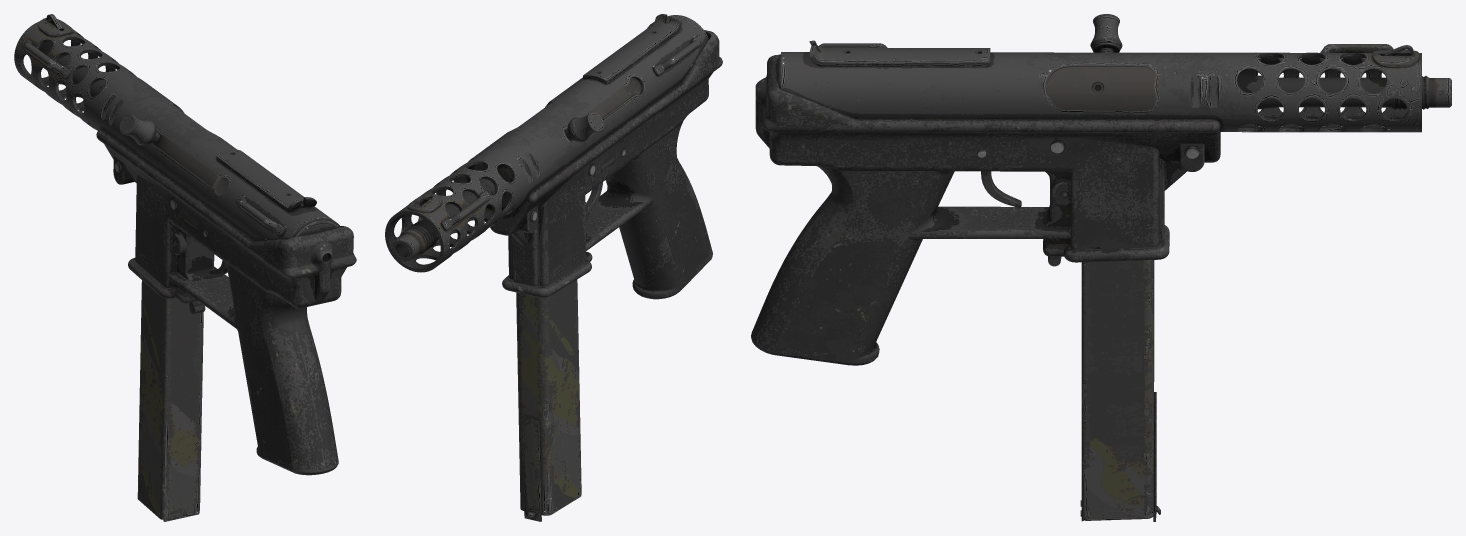
The model's file is tec9_r.glb.
3 views of the same model, side by side, from view 1: azimuth 30°, elevation 25°; view 2: azimuth 150°, elevation 25°; view 3: azimuth 270°, elevation 25° (orthographic). The views are drawn at different scales.
Parts seen in each view (by area): view 1: v_tec9_R; view 2: v_tec9_R; view 3: v_tec9_R.
Boxes of the visible parts, x1,y1,x2,y2 form: v_tec9_R: (14, 14, 356, 521); v_tec9_R: (385, 14, 722, 521); v_tec9_R: (751, 14, 1451, 521).
Size of the model in its own units: 0.0602 by 0.2571 by 0.3394.
1 material, 1 textured.
